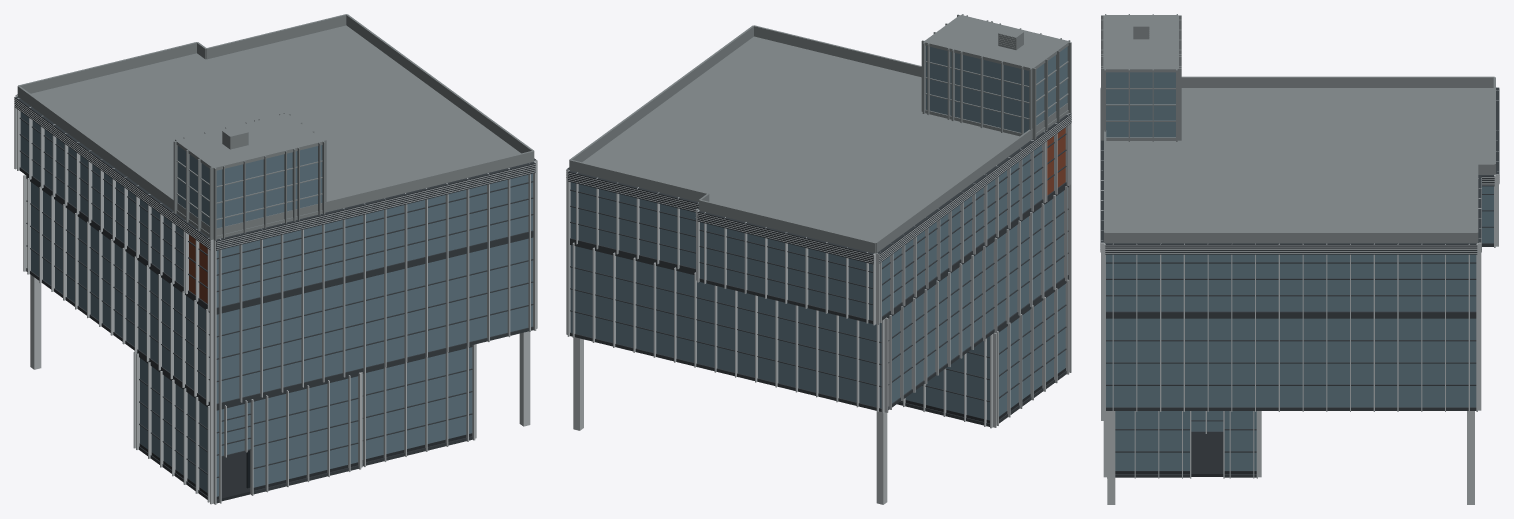
The model's file is building-v4-lod0.glb.
3 renders of one model, left to right at view 1: azimuth 30°, elevation 25°; view 2: azimuth 150°, elevation 25°; view 3: azimuth 270°, elevation 25°, orthographic.
Parts seen in each view (by area): view 1: building-v4_MATERIAL_BATCH; view 2: building-v4_MATERIAL_BATCH; view 3: building-v4_MATERIAL_BATCH.
Boxes of the visible parts, x1,y1,x2,y2 form: building-v4_MATERIAL_BATCH: (14,14,537,504); building-v4_MATERIAL_BATCH: (566,14,1071,504); building-v4_MATERIAL_BATCH: (1100,14,1499,504).
Bounding box in the file's own units: 21.45 × 21.8 × 22.7.
